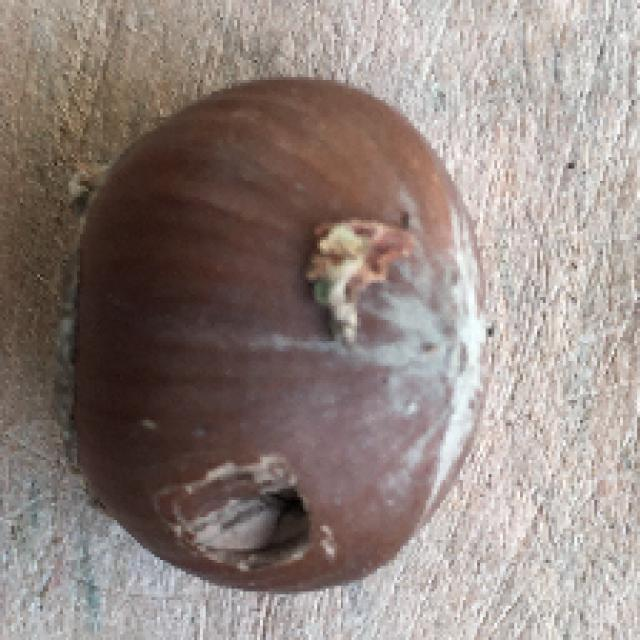damagedHazelnut: (52, 58, 496, 608)
